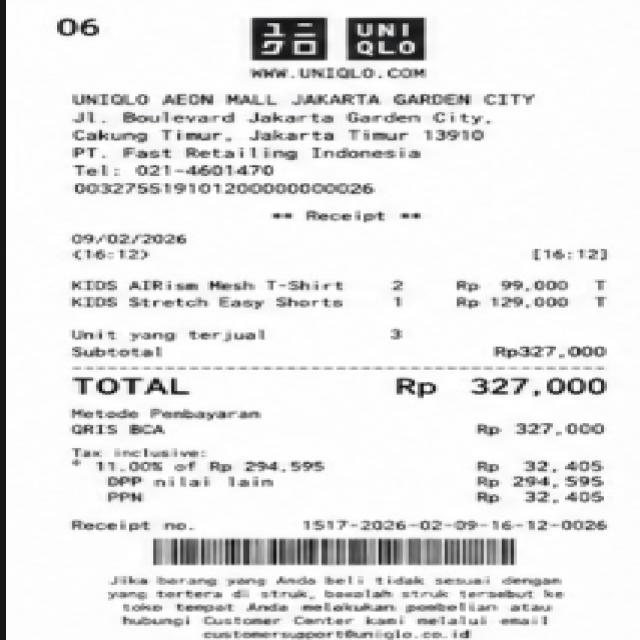date: (56, 227, 205, 262)
store: (60, 87, 567, 110), (240, 11, 449, 65)
total: (60, 372, 615, 400)
